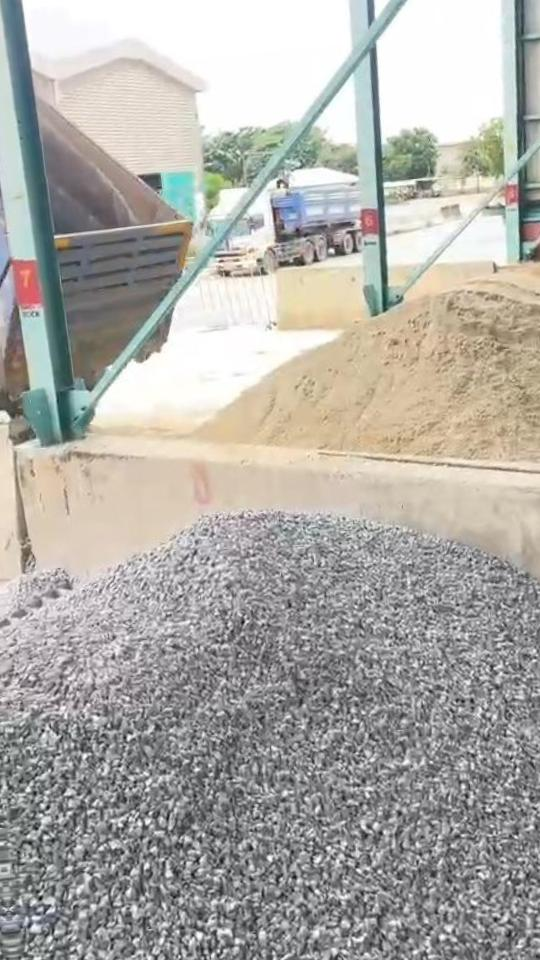gravel: (0, 512, 540, 960), (0, 570, 72, 658)
sand: (197, 273, 540, 465), (499, 258, 540, 320)
